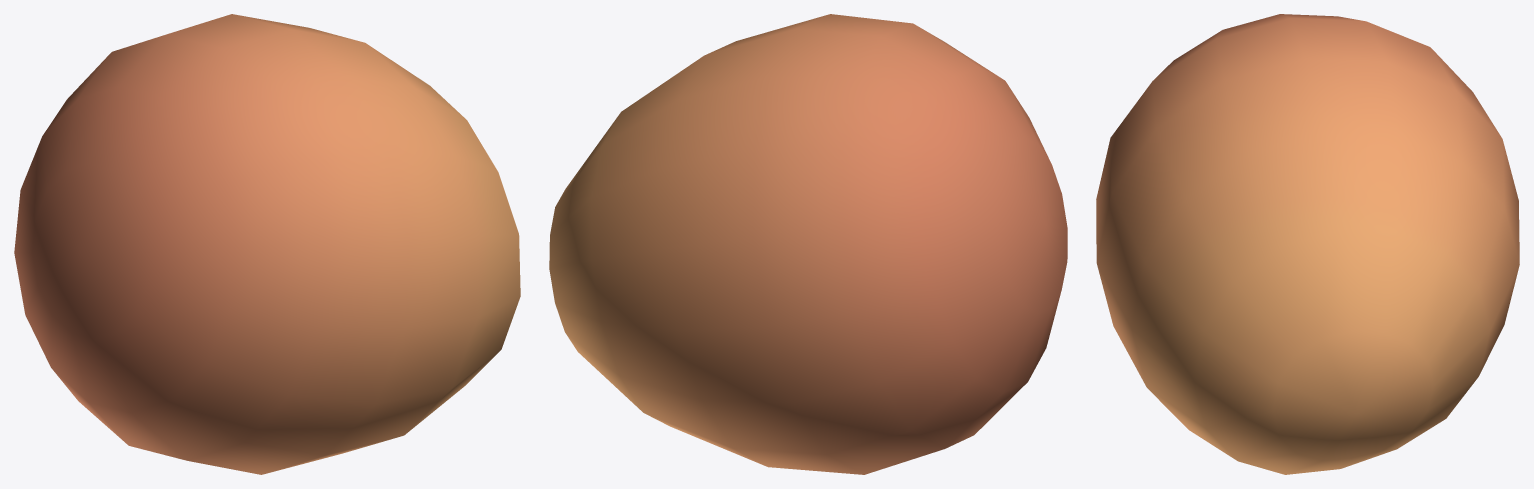
File: Egg_Easter.fbx
3 views of the same model, side by side, from view 1: azimuth 30°, elevation 25°; view 2: azimuth 150°, elevation 25°; view 3: azimuth 270°, elevation 25° (orthographic). The views are drawn at different scales.
Parts seen in each view (by area): view 1: Egg_Easter; view 2: Egg_Easter; view 3: Egg_Easter.
Boxes of the visible parts, <box> form: Egg_Easter: <box>14,14,520,474</box>; Egg_Easter: <box>549,14,1067,474</box>; Egg_Easter: <box>1096,14,1519,474</box>.
Size of the model in its own units: 45.5 by 40.52 by 39.45.
